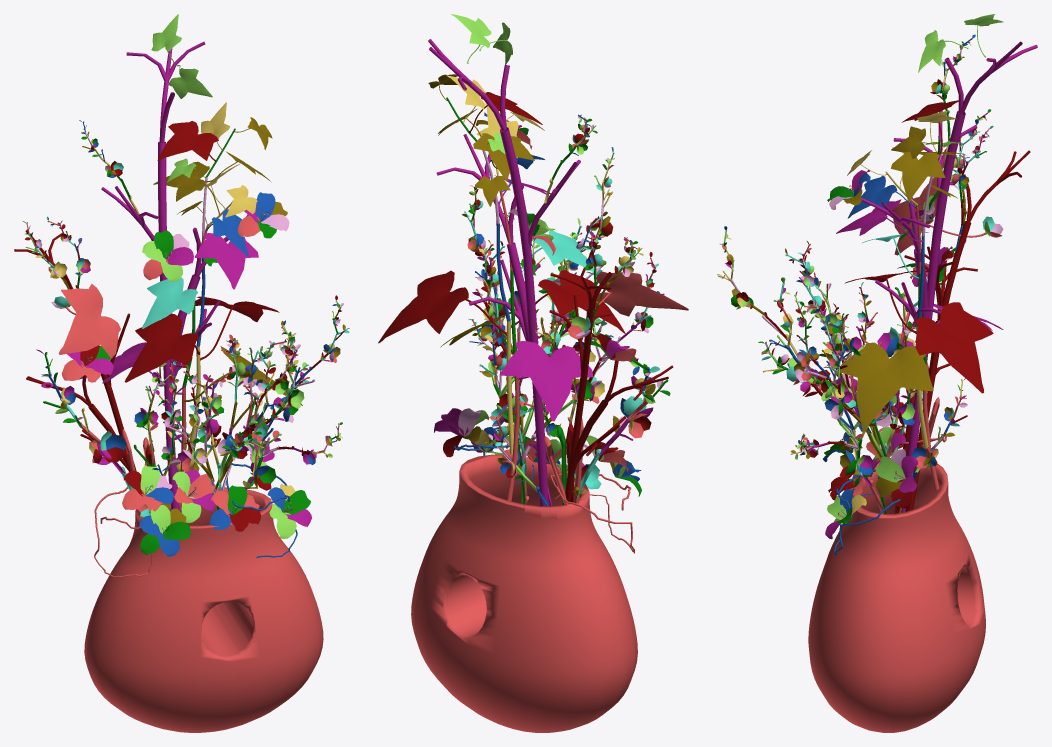
The picture shows the model from 3 angles, left to right: view 1: azimuth 30°, elevation 25°; view 2: azimuth 150°, elevation 25°; view 3: azimuth 270°, elevation 25°; orthographic projection. The views are drawn at different scales.
Visible parts, largest first — view 1: Group_095, bamboo1976_02_09_15_32_46__0500_003, leaf_1_021, leaf_1_001, bamboo1976_02_09_15_32_46__0500_001, leaf_1_004, leaf_1_013, leaf_1_006, leaf_1_015, leaf_1_008, leaf_1_014, leaf_1_020 (+4 smaller); view 2: Group_095, bamboo1976_02_09_15_32_46__0500_003, bamboo1976_02_09_15_32_46__0500_001, leaf_1_010, leaf_1_008, leaf_1_021, leaf_1_001, leaf_1_013, leaf_1_015, Group_083, Branch_ivy_a_005, leaf_1_019 (+2 smaller); view 3: Group_095, bamboo1976_02_09_15_32_46__0500_003, leaf_1_017, leaf_1_008, bamboo1976_02_09_15_32_46__0500_001, leaf_1_005, leaf_1_021, leaf_1_014, leaf_1_004, leaf_1_020, leaf_1_002.
Boxes of the visible parts, left/top/right/bottom form: Group_095: left=84, top=487, right=323, bottom=732; bamboo1976_02_09_15_32_46__0500_003: left=101, top=41, right=249, bottom=510; leaf_1_021: left=58, top=284, right=120, bottom=358; leaf_1_001: left=124, top=313, right=200, bottom=382; bamboo1976_02_09_15_32_46__0500_001: left=14, top=230, right=136, bottom=471; leaf_1_004: left=194, top=233, right=258, bottom=289; leaf_1_013: left=142, top=277, right=197, bottom=328; leaf_1_006: left=157, top=121, right=218, bottom=161; leaf_1_015: left=153, top=161, right=220, bottom=214; leaf_1_008: left=195, top=296, right=279, bottom=360; leaf_1_014: left=205, top=209, right=248, bottom=256; leaf_1_020: left=168, top=65, right=212, bottom=98; Group_095: left=411, top=454, right=637, bottom=732; bamboo1976_02_09_15_32_46__0500_003: left=428, top=39, right=580, bottom=506; bamboo1976_02_09_15_32_46__0500_001: left=549, top=272, right=673, bottom=504; leaf_1_010: left=499, top=341, right=592, bottom=421; leaf_1_008: left=378, top=270, right=506, bottom=343; leaf_1_021: left=580, top=271, right=688, bottom=331; leaf_1_001: left=510, top=270, right=625, bottom=333; leaf_1_013: left=513, top=230, right=594, bottom=275; leaf_1_015: left=473, top=133, right=534, bottom=180; Group_083: left=550, top=471, right=634, bottom=553; Branch_ivy_a_005: left=506, top=376, right=519, bottom=501; leaf_1_019: left=451, top=14, right=491, bottom=63; Group_095: left=808, top=458, right=985, bottom=732; bamboo1976_02_09_15_32_46__0500_003: left=861, top=41, right=1037, bottom=512; leaf_1_017: left=840, top=342, right=933, bottom=431; leaf_1_008: left=915, top=302, right=993, bottom=393; bamboo1976_02_09_15_32_46__0500_001: left=904, top=150, right=1030, bottom=511; leaf_1_005: left=891, top=152, right=945, bottom=202; leaf_1_021: left=892, top=177, right=986, bottom=255; leaf_1_014: left=847, top=175, right=915, bottom=218; leaf_1_004: left=836, top=199, right=923, bottom=242; leaf_1_020: left=918, top=30, right=968, bottom=72; leaf_1_002: left=891, top=126, right=939, bottom=158.
Size of the model in its own units: 23.8 by 58.94 by 24.17.
